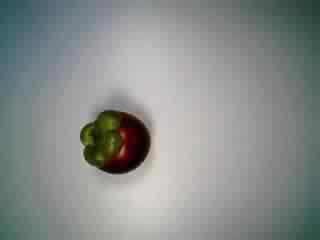mangosteen: (77, 103, 151, 175)
